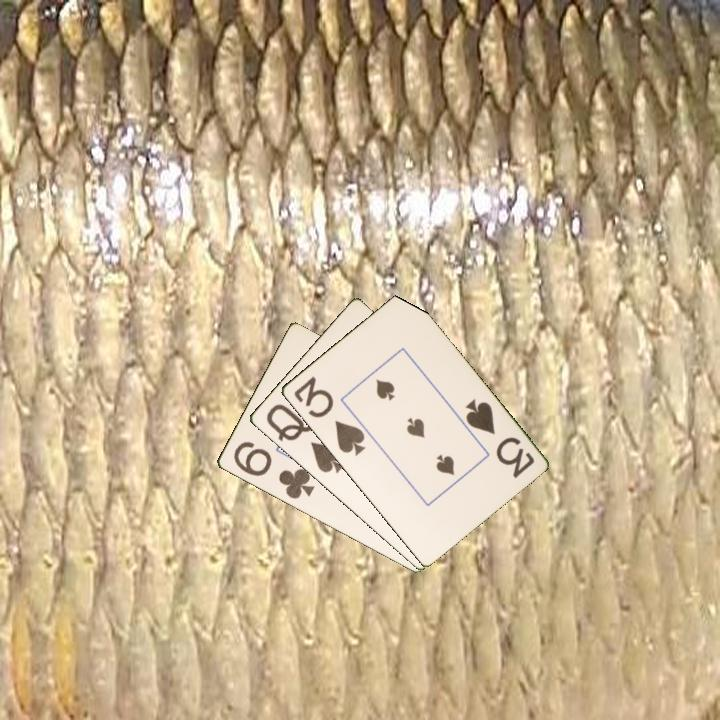3s: (290, 373, 368, 459), (461, 395, 537, 481)
6c: (229, 438, 317, 502)
Qs: (262, 400, 347, 476)
